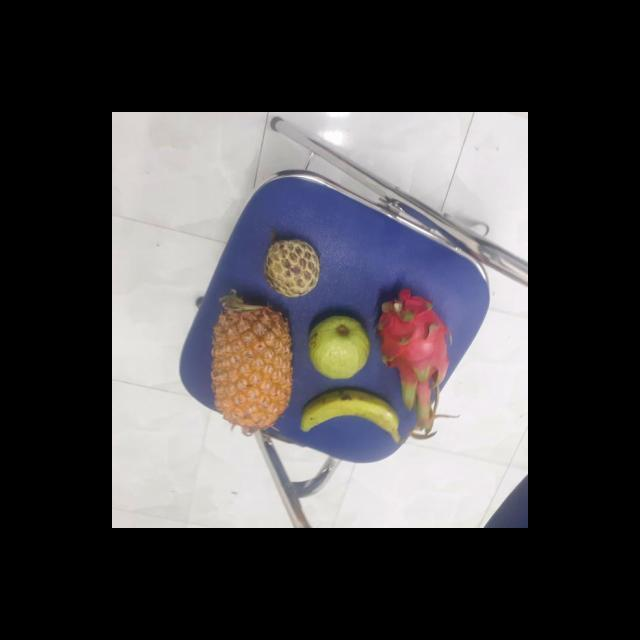Sakya fruit: (260, 238, 319, 296)
guava: (304, 314, 370, 379)
pineapple: (205, 299, 294, 432)
pitaya: (372, 297, 452, 408)
